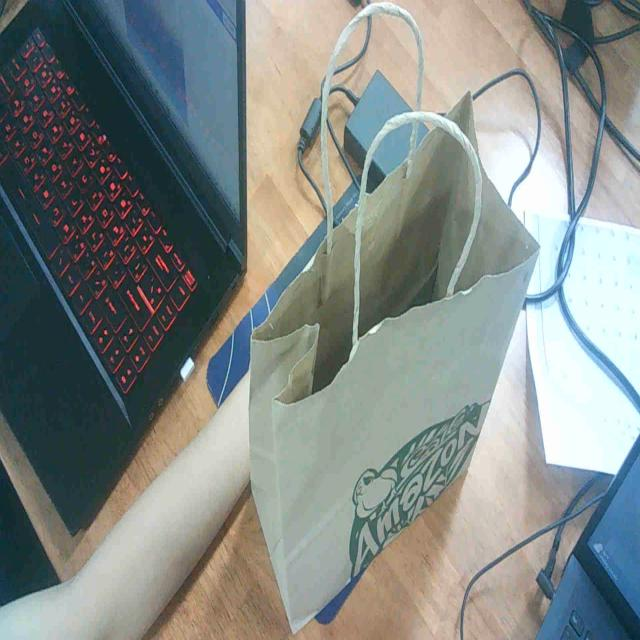bag: (229, 62, 547, 640)
